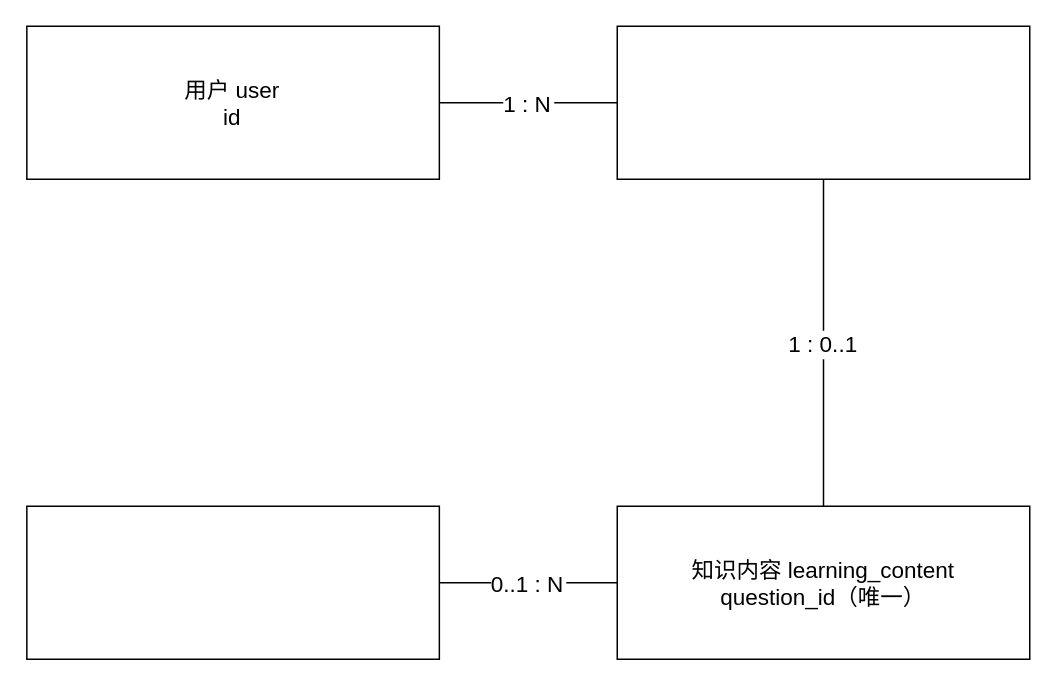
The diagram is 1056 pixels wide and 686 high, and some of its shapes have lost their labels. The centre of each missing label's shape, as x and y in pixels:
知识点 knowledge_point id: the point at 232,582
错题 question id / user_id: the point at 823,102
